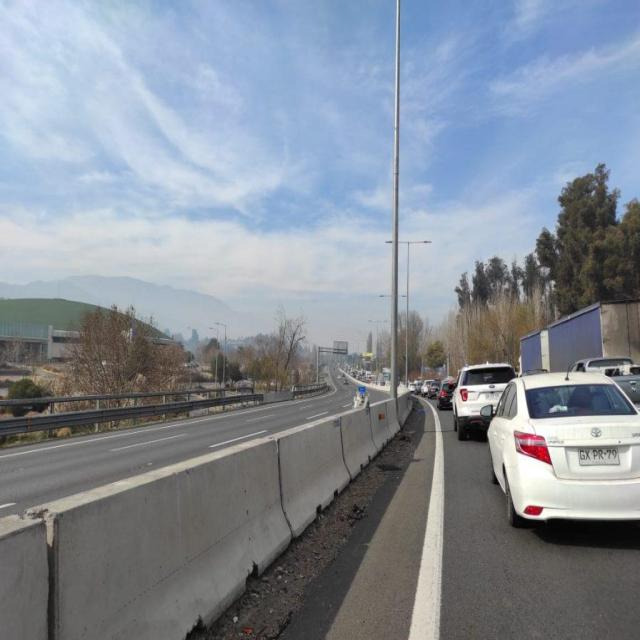patente: (576, 446, 620, 466)
